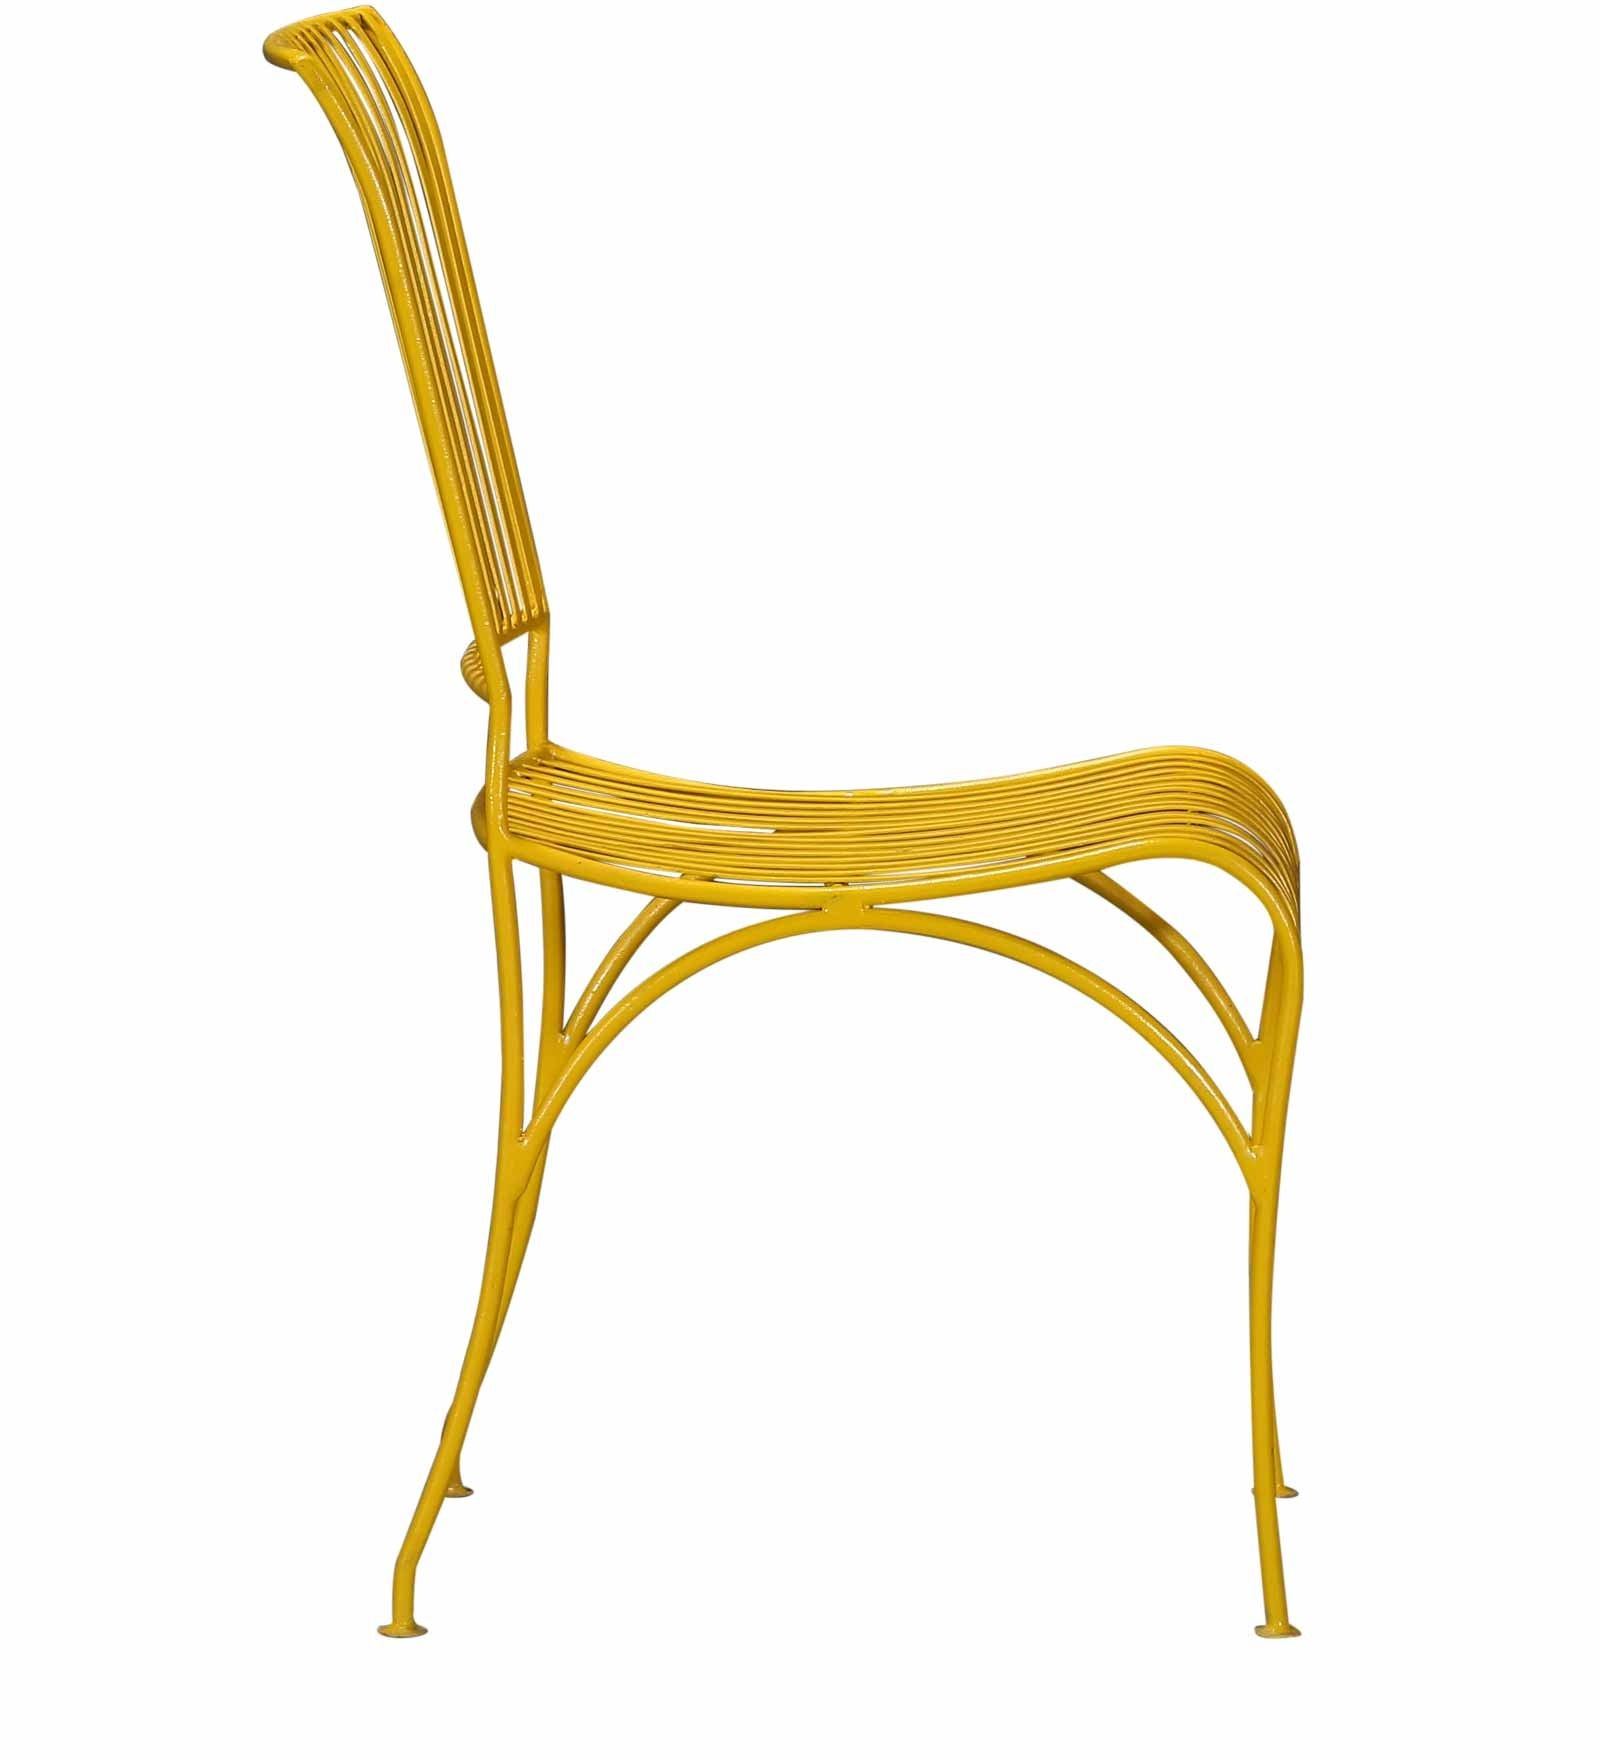Lisheen Outdoor Iron Chair in Yellow Color by Bohemiana: (211, 2, 1401, 1706)
